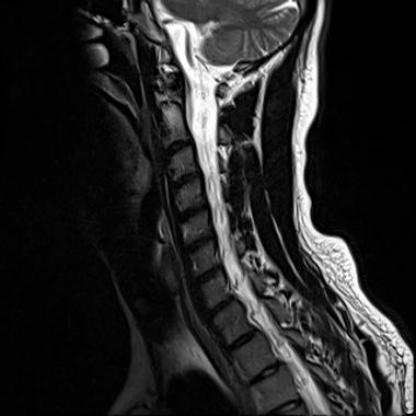Degenerative Disc Diseaserotation: (184, 237, 215, 252)
Disc Bulgerotation: (184, 236, 215, 251)
